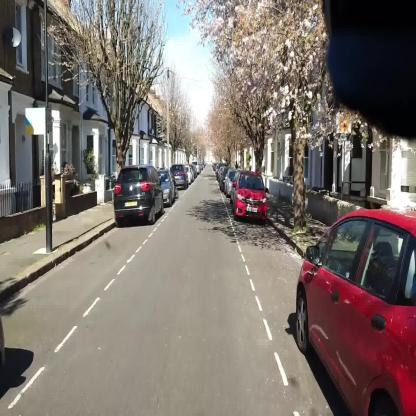car: (295, 209, 415, 416), (114, 164, 164, 226), (233, 169, 269, 222), (157, 167, 175, 207), (170, 164, 189, 190), (224, 168, 236, 198)
